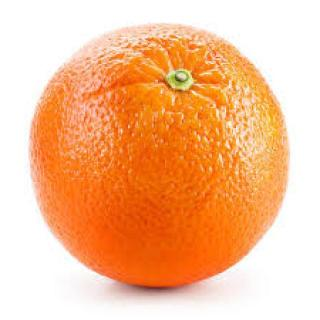orange: (16, 9, 292, 295)
